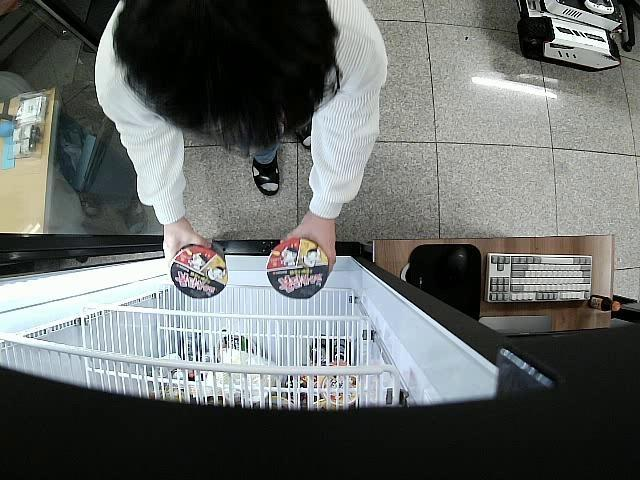07_buldak_L: (266, 240, 328, 298), (170, 242, 228, 299)
